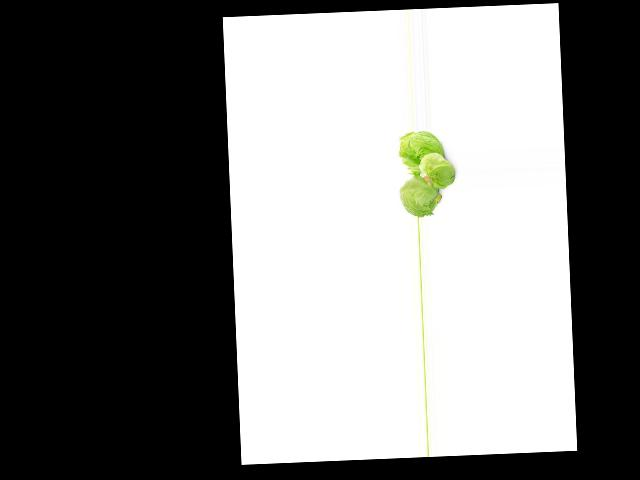lettuce: (400, 132, 441, 170)
